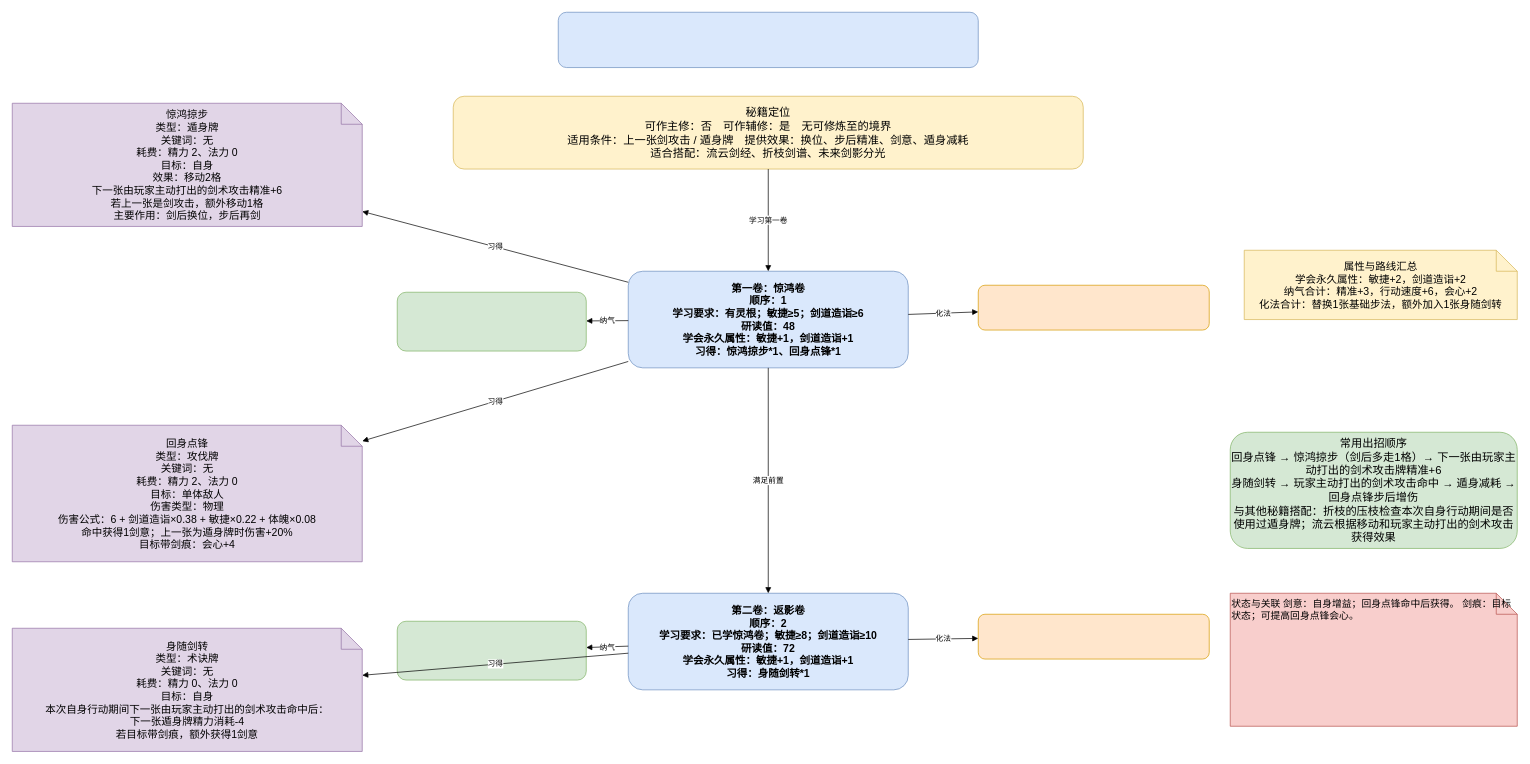
The diagram is 1530 pixels wide and 764 high, and some of its shapes have lost their labels. Here are the shapes that lost their labels. From the top down, the centre of each, then its label:
pixel 768 40: 惊鸿掠影谱 仅辅修 · 身法剑谱 · 敏捷
pixel 491 321: 纳气 精准+3 行动速度+3
pixel 1093 307: 化法 基础步法*1 → 惊鸿掠步*1
pixel 491 650: 纳气 行动速度+3 会心+2
pixel 1093 636: 化法 基础技能库额外加入 身随剑转*1
